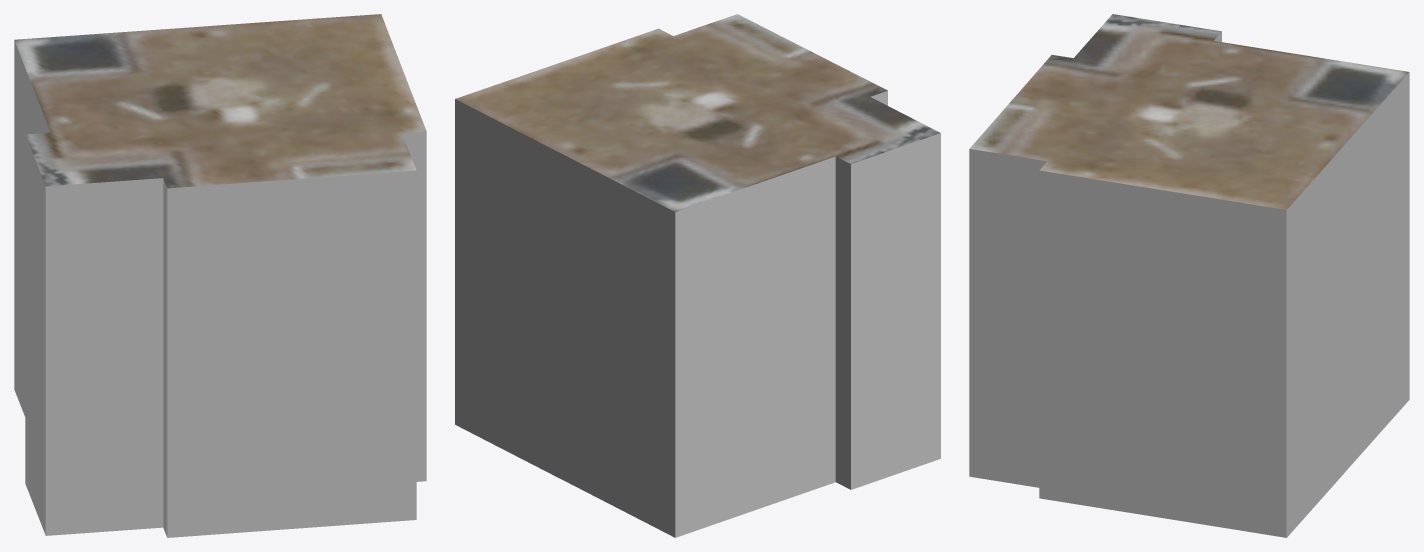
The model's file is DEBW_0010007TxfH.gltf.
The picture shows the model from 3 angles, left to right: view 1: azimuth 30°, elevation 25°; view 2: azimuth 150°, elevation 25°; view 3: azimuth 270°, elevation 25°; orthographic projection. The views are drawn at different scales.
Parts seen in each view (by area): view 1: Z_UP; view 2: Z_UP; view 3: Z_UP.
Part boxes in pixels (box(x1,y1,x2,y2)): Z_UP: box(14, 14, 426, 537); Z_UP: box(455, 14, 940, 537); Z_UP: box(969, 14, 1409, 537).
Bounding box in the file's own units: 19.96 × 15.56 × 18.93.
Materials: 2 (1 with a texture image).
